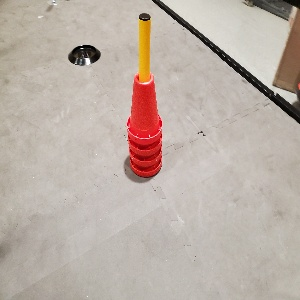Red_4: (125, 68, 164, 183)
